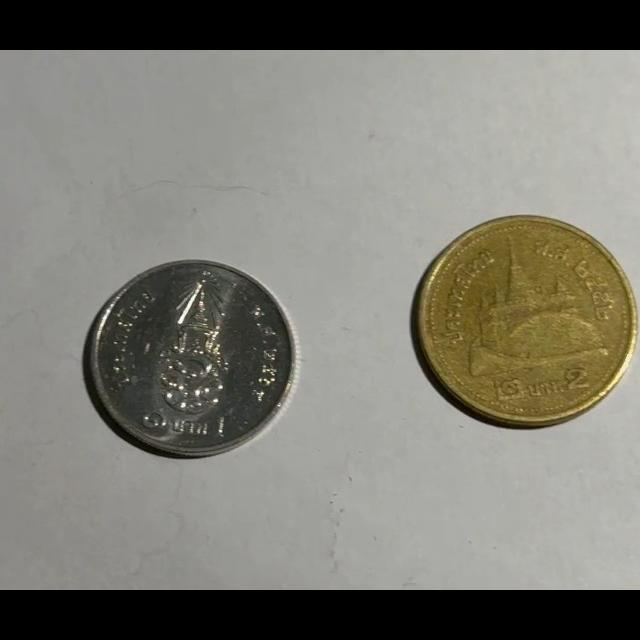1-baht: (83, 261, 296, 458)
2-baht: (415, 216, 637, 426)
